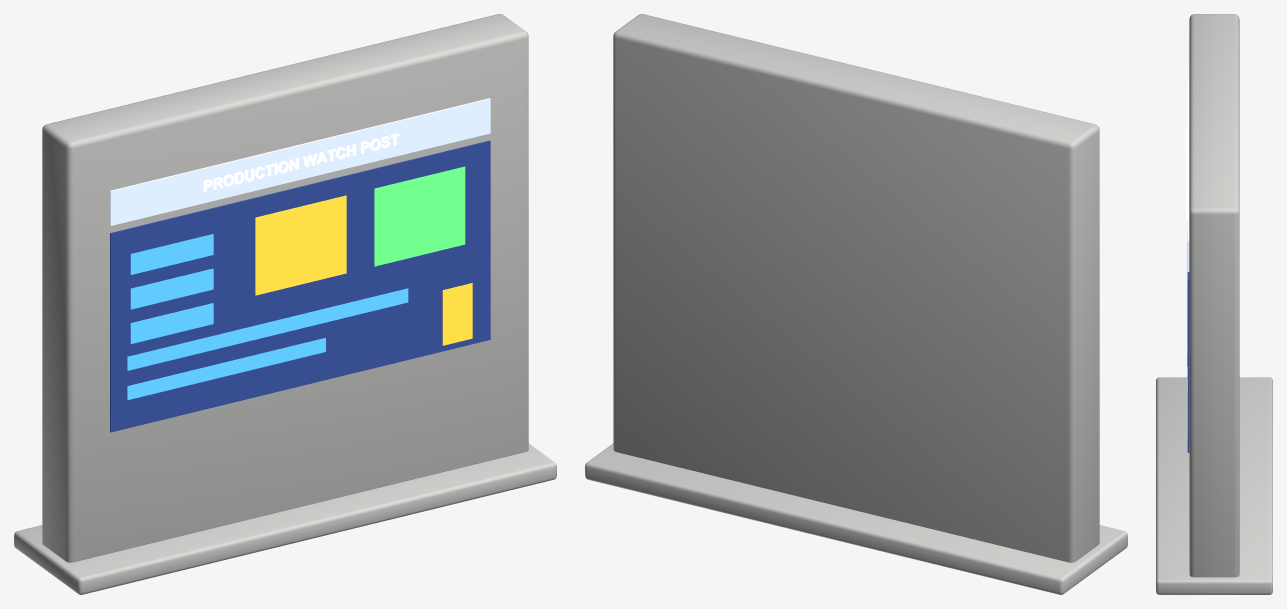
File: station-production.glb
The picture shows the model from 3 angles, left to right: view 1: azimuth 30°, elevation 25°; view 2: azimuth 150°, elevation 25°; view 3: azimuth 270°, elevation 25°; orthographic projection. The views are drawn at different scales.
Visible parts, largest first — view 1: PostPanel, PostScreen, PostBase, Screen.003, TileOrange, TileGreen, PostLine, PostLine.001, TileBlue.002, TileBlue, TileBlue.001, TileSmall (+1 smaller); view 2: PostPanel, PostBase; view 3: PostPanel, PostBase, Screen.003, PostScreen, PostTitle.
Part boxes in pixels (x1,y1,x2,y2): PostPanel: [42, 14, 528, 562]; PostScreen: [110, 140, 490, 432]; PostBase: [14, 443, 556, 594]; Screen.003: [110, 98, 490, 225]; TileOrange: [255, 195, 346, 295]; TileGreen: [374, 166, 465, 266]; PostLine: [127, 288, 408, 370]; PostLine.001: [127, 338, 325, 399]; TileBlue.002: [130, 303, 213, 343]; TileBlue: [130, 234, 213, 274]; TileBlue.001: [130, 268, 213, 309]; TileSmall: [442, 283, 472, 345]; PostPanel: [613, 14, 1099, 562]; PostBase: [585, 443, 1127, 594]; PostPanel: [1189, 14, 1239, 577]; PostBase: [1156, 377, 1272, 594]; Screen.003: [1187, 79, 1189, 271]; PostScreen: [1187, 272, 1189, 452]; PostTitle: [1185, 129, 1187, 220].
Bounding box in the file's own units: 2.9 × 2.52 × 0.7.
